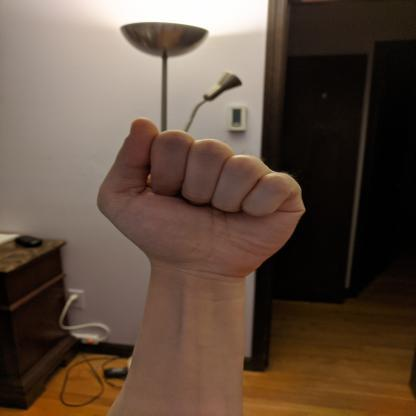A: (92, 114, 312, 284)
